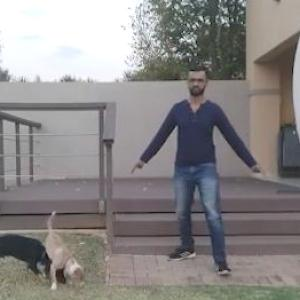land: (134, 67, 291, 283)
